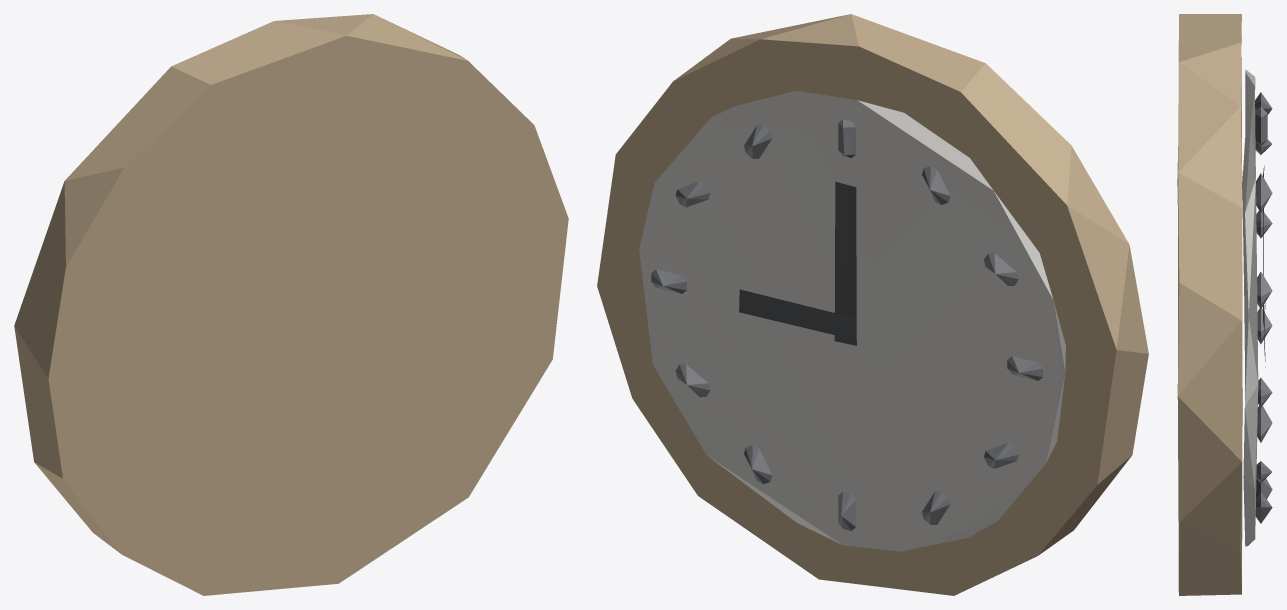
The model's file is furn_wall_clock__oak_low.glb.
3 views of the same model, side by side, from view 1: azimuth 30°, elevation 25°; view 2: azimuth 150°, elevation 25°; view 3: azimuth 270°, elevation 25° (orthographic). The views are drawn at different scales.
Bounding box in the file's own units: 0.4377 × 0.4378 × 0.0713.
